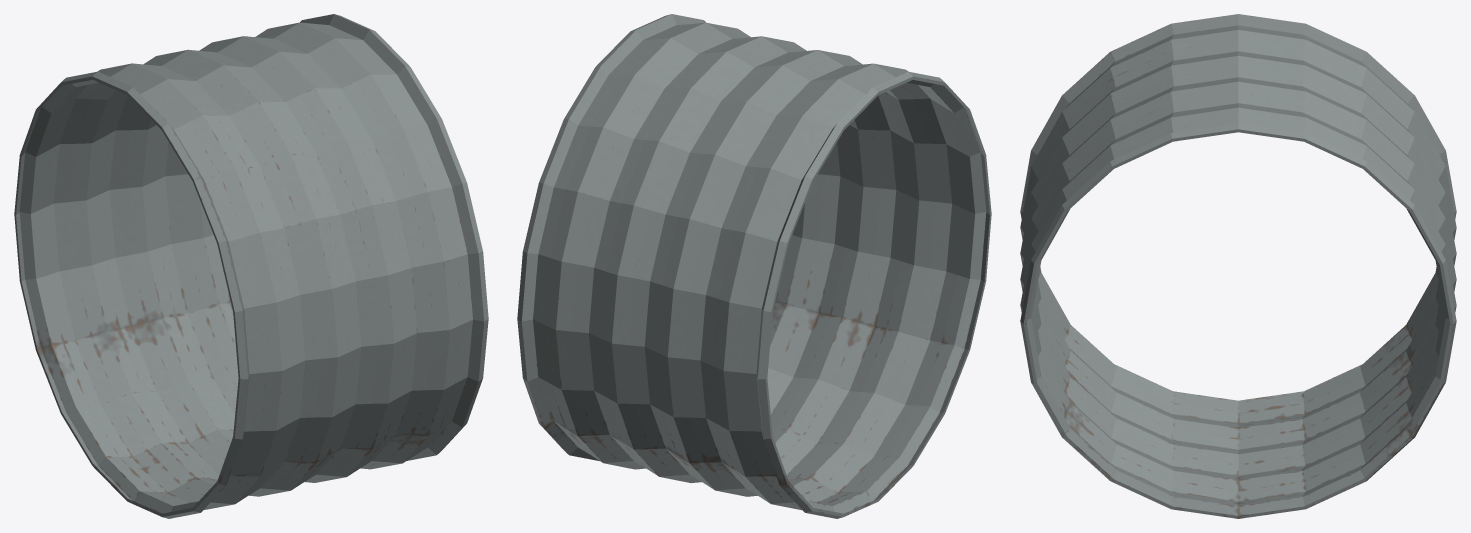
Rendered from river_culvert_pipe_end_round.glb.
3 views of the same model, side by side, from view 1: azimuth 30°, elevation 25°; view 2: azimuth 150°, elevation 25°; view 3: azimuth 270°, elevation 25° (orthographic). The views are drawn at different scales.
Visible parts, largest first — view 1: CulvertRound; view 2: CulvertRound; view 3: CulvertRound.
Boxes of the visible parts, bbox=[...] form: CulvertRound: bbox=[14, 14, 488, 518]; CulvertRound: bbox=[517, 14, 991, 518]; CulvertRound: bbox=[1020, 14, 1456, 518].
Size of what is drawn, in the model's own units: 1 by 1.6 by 1.6.
Materials: 1 (1 with a texture image).
